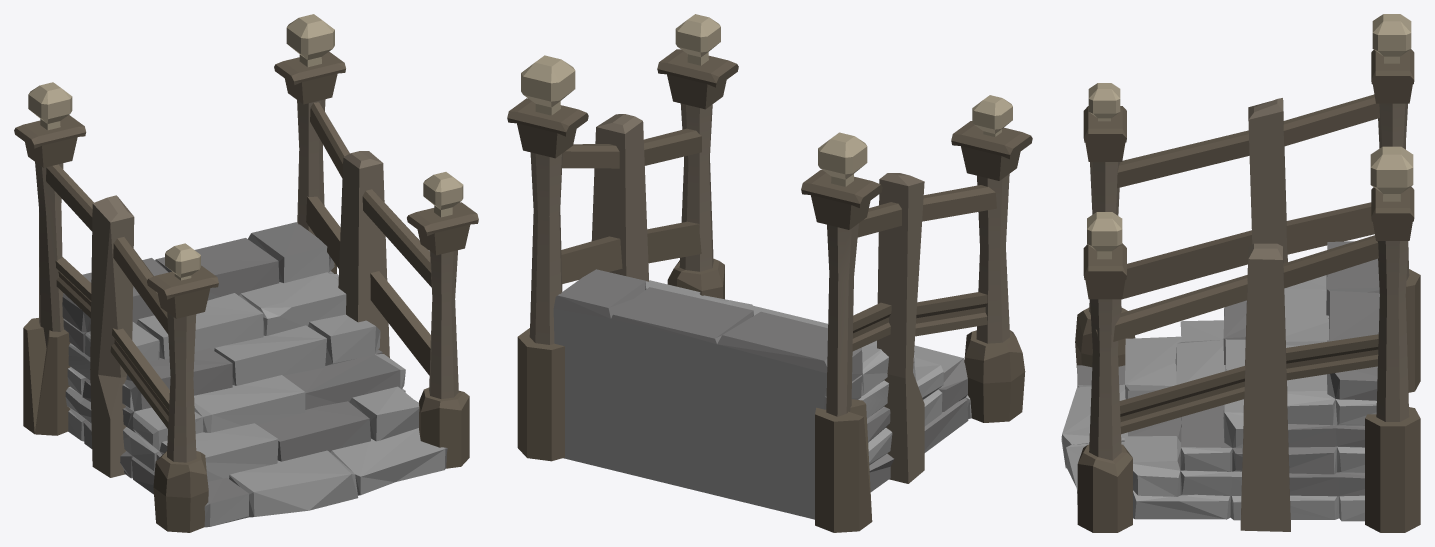
Rendered from _STAIRS_06_1.fbx.
3 renders of one model, left to right at view 1: azimuth 30°, elevation 25°; view 2: azimuth 150°, elevation 25°; view 3: azimuth 270°, elevation 25°, orthographic. The views are drawn at different scales.
Visible parts, largest first — view 1: STAIRS_06_1; view 2: STAIRS_06_1; view 3: STAIRS_06_1.
Part boxes in pixels (left/top/right/bottom): STAIRS_06_1: left=14, top=14, right=478, bottom=532; STAIRS_06_1: left=507, top=14, right=1032, bottom=532; STAIRS_06_1: left=1061, top=14, right=1420, bottom=532.
Size of the model in its own units: 123 by 129 by 113.
